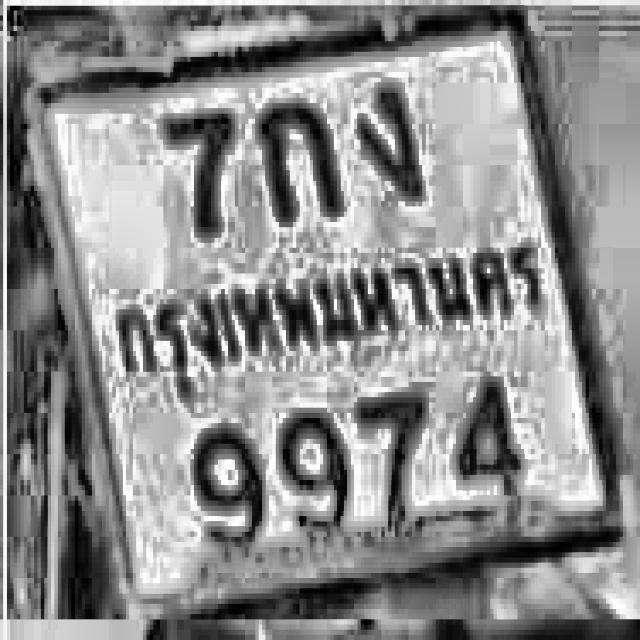license-plate: (20, 1, 629, 640)
